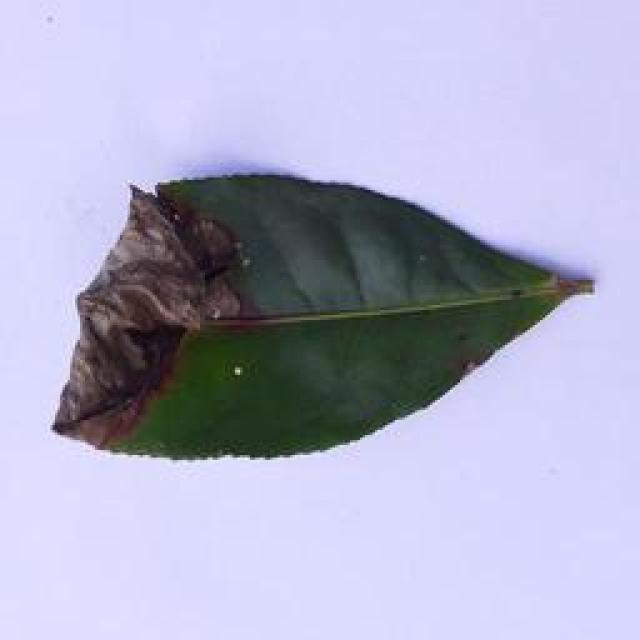Brown Blight: (41, 166, 607, 462)
